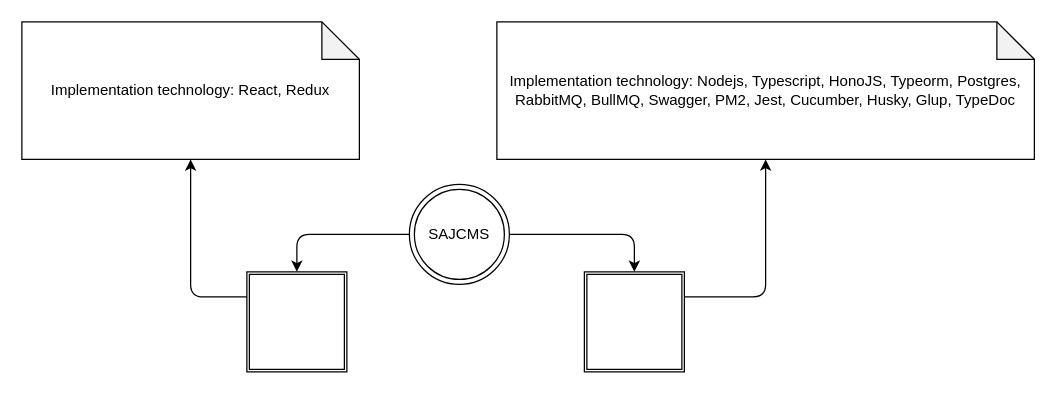
This 1056x394 diagram has some shape labels left out. Each missing label, with the centre of its shape:
"Backend" belongs at point 633,321.
"Frontend" belongs at point 296,321.
